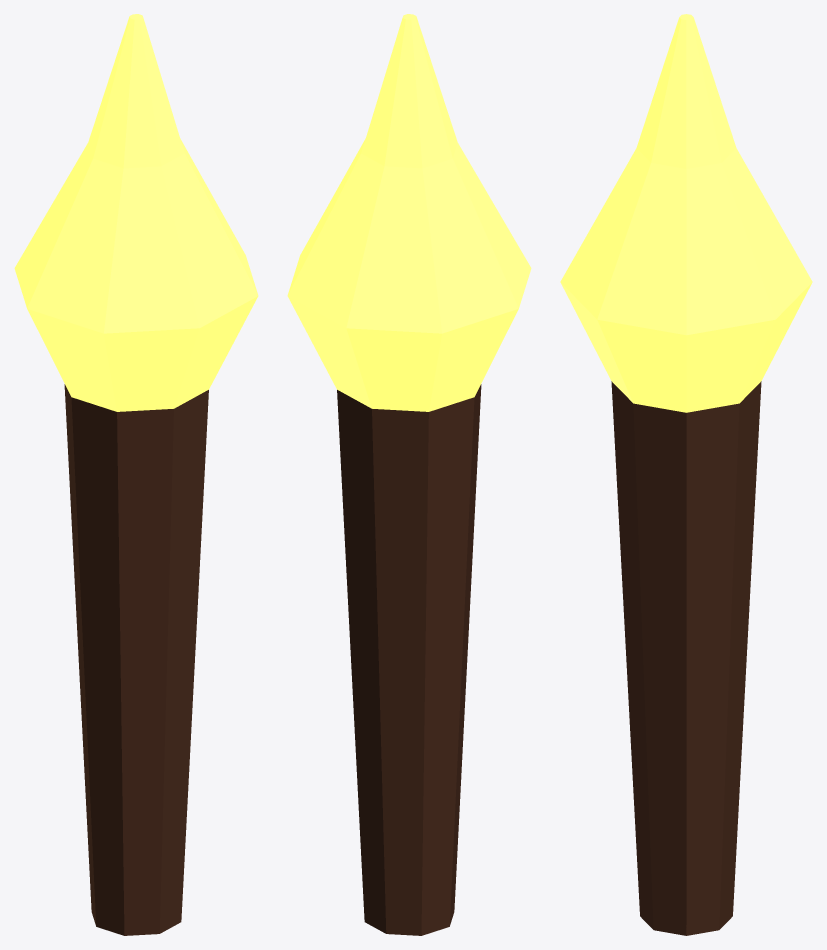
The model's file is Torch.fbx.
The picture shows the model from 3 angles, left to right: view 1: azimuth 30°, elevation 25°; view 2: azimuth 150°, elevation 25°; view 3: azimuth 270°, elevation 25°; orthographic projection.
Parts seen in each view (by area): view 1: Circle; view 2: Circle; view 3: Circle.
Boxes of the visible parts, <box> form: Circle: <box>14,14,258,935</box>; Circle: <box>287,14,531,935</box>; Circle: <box>560,14,812,935</box>.
Bounding box in the file's own units: 0.3169 × 0.3169 × 1.25.
